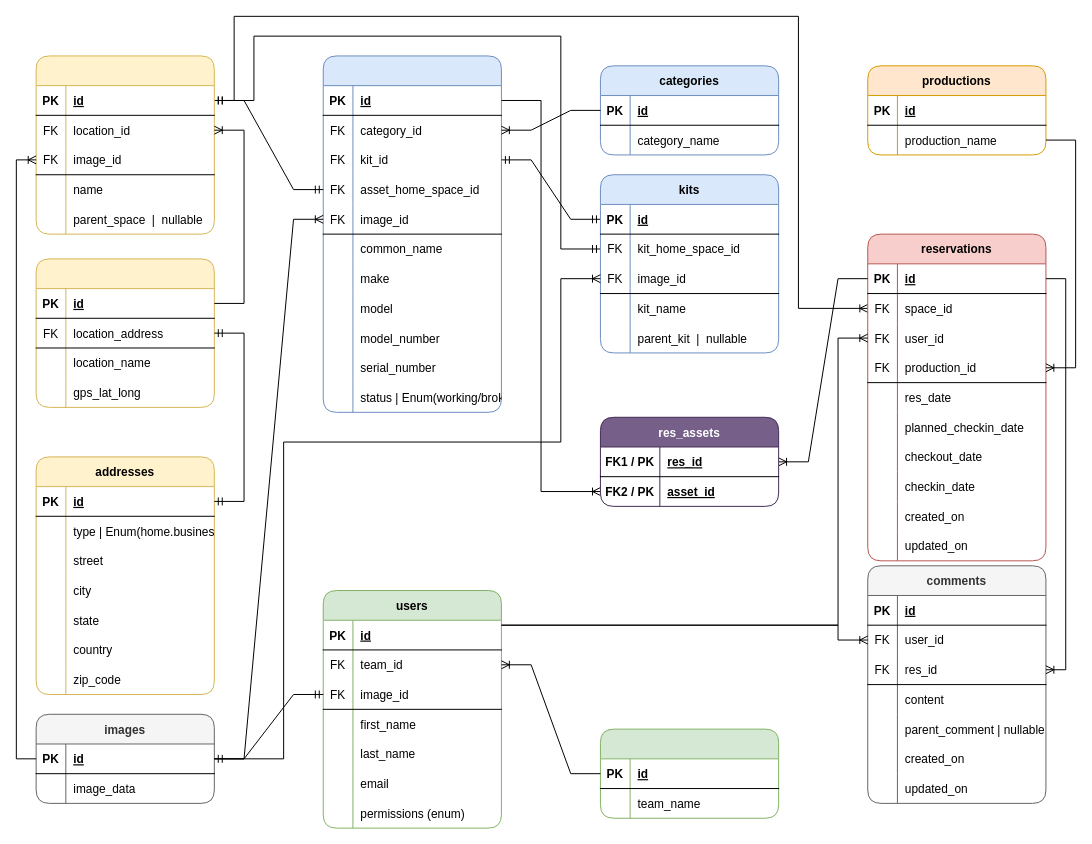
Some shapes in this 1092 by 844 pixel diagram are drawn without their labels. The box of each missing label's shape, as (x1, y1, x2, y2) in pixels:
assets: (322, 55, 501, 412)
locations: (35, 258, 214, 407)
spaces: (35, 55, 214, 234)
teams: (599, 728, 779, 818)
